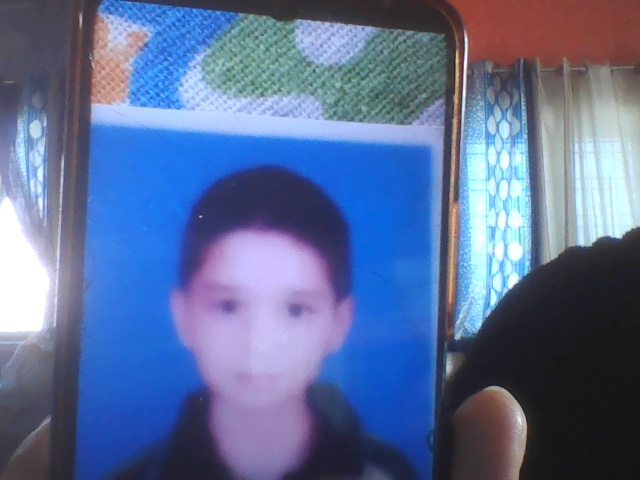fake: (169, 165, 358, 433)
